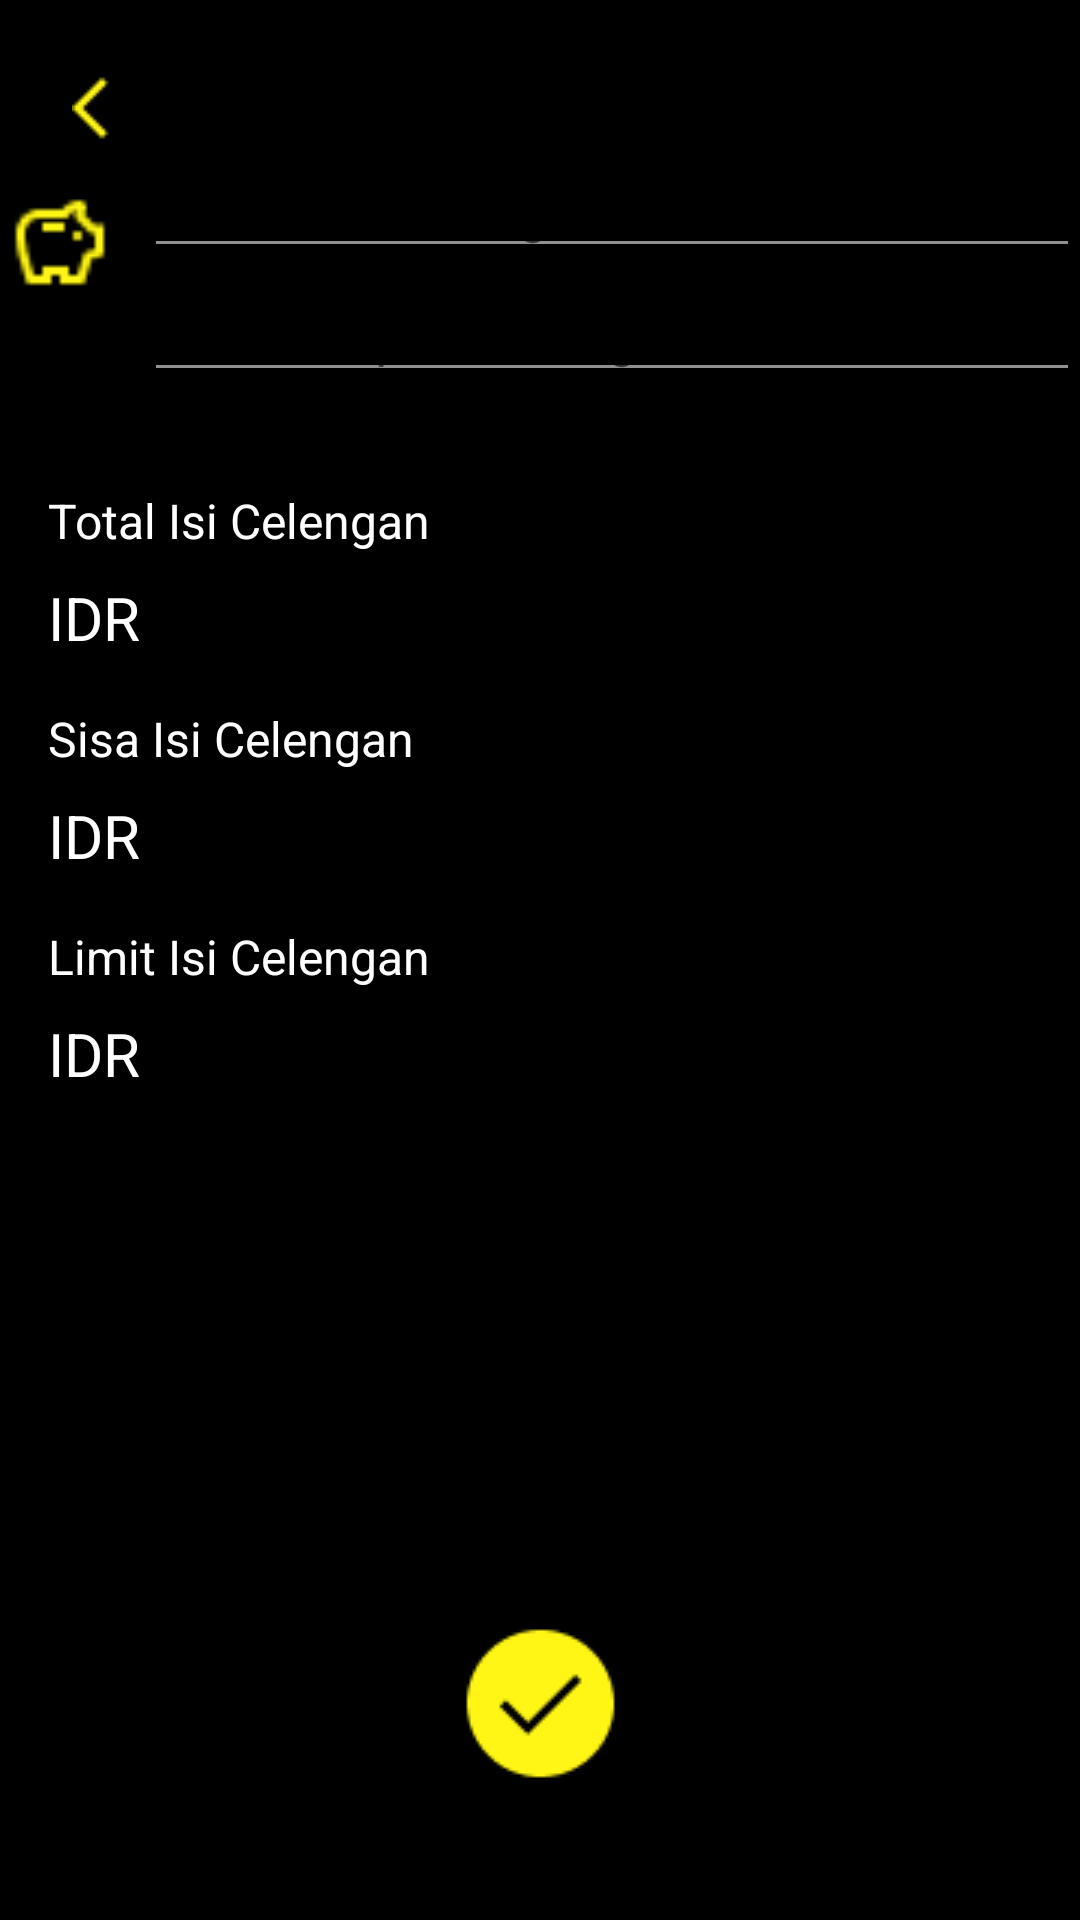

Icon bounding boxes for this 1080px x 1920px phone screenshot, format (x1, y1, x2, y2):
arrow back: (72, 77, 109, 139)
savings: (14, 199, 106, 286)
simpan: (466, 1629, 615, 1778)
